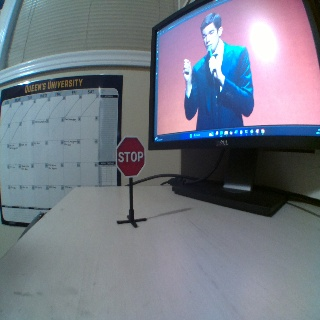sign_stop: (116, 137, 145, 176)
